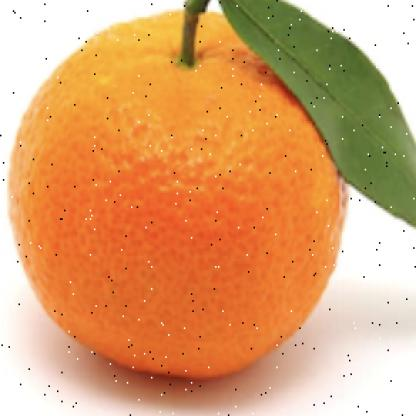orange: (12, 1, 348, 392)
